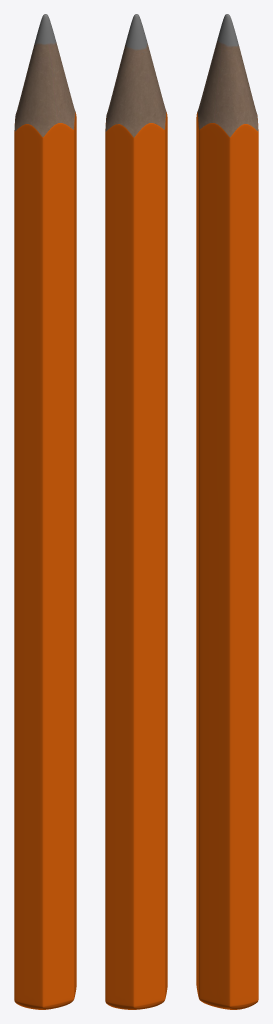
The model's file is pencil.glb.
3 views of the same model, side by side, from view 1: azimuth 30°, elevation 25°; view 2: azimuth 210°, elevation 25°; view 3: azimuth 330°, elevation 25° (orthographic).
Parts seen in each view (by area): view 1: Pencil; view 2: Pencil; view 3: Pencil.
Boxes of the visible parts, x1,y1,x2,y2 form: Pencil: [14, 14, 76, 1009]; Pencil: [105, 14, 167, 1009]; Pencil: [196, 14, 258, 1009].
Size of the model in its own units: 1.06 by 16.14 by 0.7766.
Materials: 2 (1 with a texture image).
